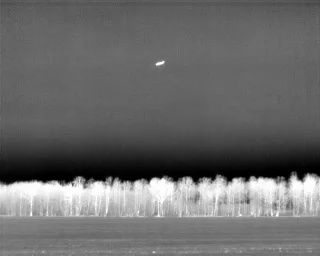DRONE: (152, 56, 169, 71)
